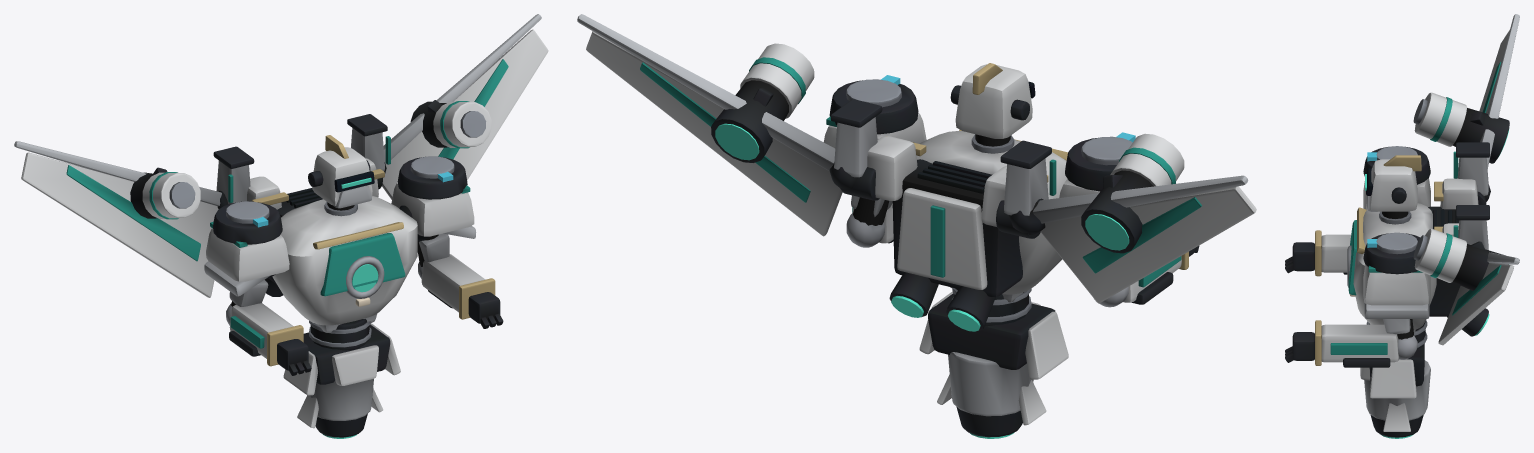
Rendered from ex_seraph_1.glb.
3 views of the same model, side by side, from view 1: azimuth 30°, elevation 25°; view 2: azimuth 150°, elevation 25°; view 3: azimuth 270°, elevation 25° (orthographic). The views are drawn at different scales.
Visible parts, largest first — view 1: body, flap_4, flap_0; view 2: body, flap_0, flap_4; view 3: body, flap_0, flap_4.
Boxes of the visible parts, box(x1,y1,x2,y2) form: body: box(204, 114, 503, 438); flap_4: box(14, 141, 228, 297); flap_0: box(382, 14, 548, 199); body: box(823, 63, 1199, 438); flap_0: box(577, 14, 857, 236); flap_4: box(1009, 133, 1256, 303); body: box(1285, 142, 1489, 438); flap_0: box(1413, 228, 1519, 345); flap_4: box(1413, 14, 1519, 201).
Size of the model in its own units: 6.15 by 3.43 by 2.48.
